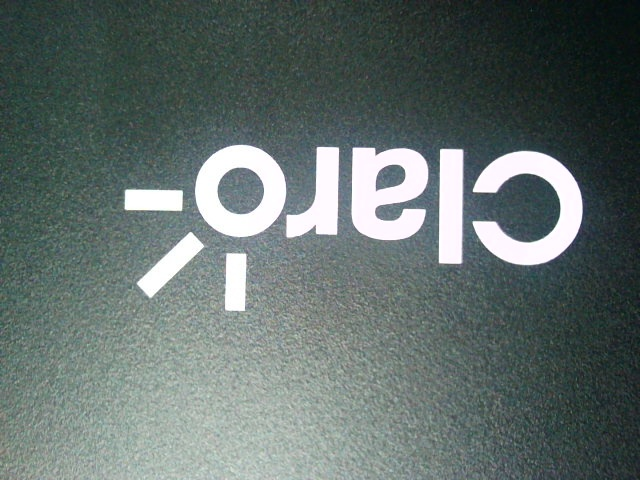BC_Claor: (119, 130, 593, 321)
